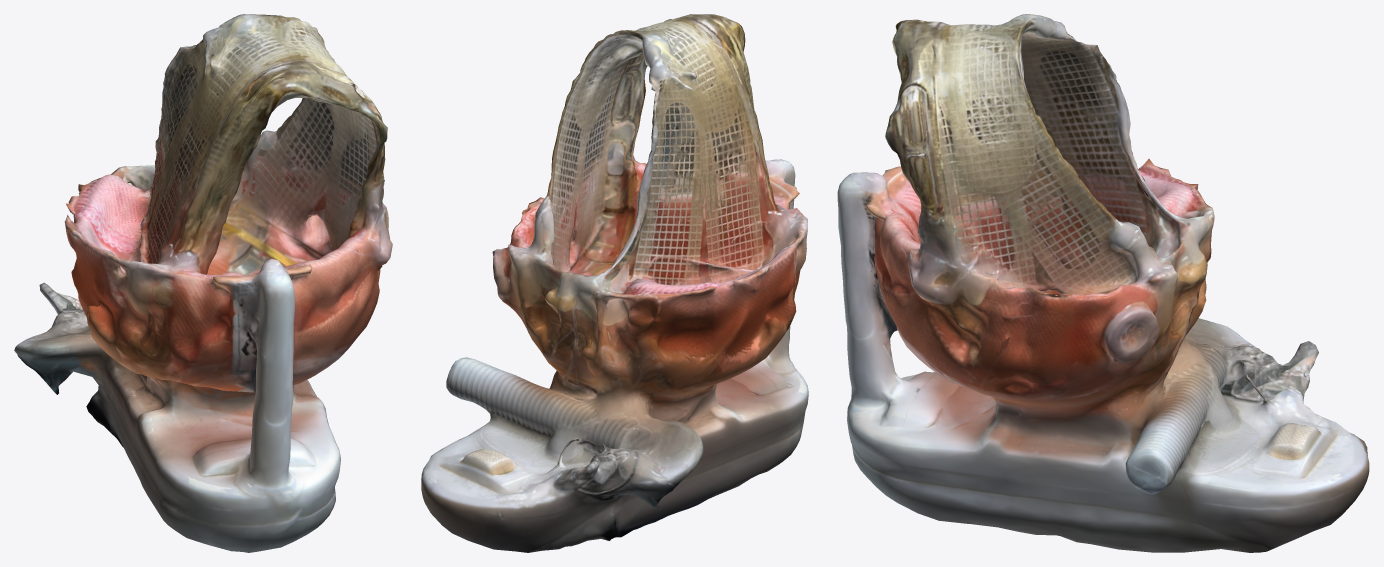
3 views of the same model, side by side, from view 1: azimuth 30°, elevation 25°; view 2: azimuth 150°, elevation 25°; view 3: azimuth 270°, elevation 25° (orthographic). The views are drawn at different scales.
Parts seen in each view (by area): view 1: P6; view 2: P6; view 3: P6.
Part boxes in pixels (<box>): P6: <box>14,14,392,552</box>; P6: <box>421,14,808,552</box>; P6: <box>837,14,1369,552</box>.
Bounding box in the file's own units: 0.3711 × 0.5532 × 0.5296.
Materials: 1 (1 with a texture image).
